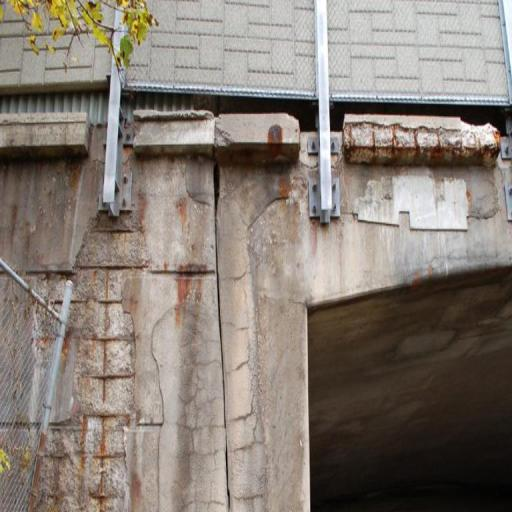spalling: (36, 269, 136, 512), (345, 121, 498, 162)
